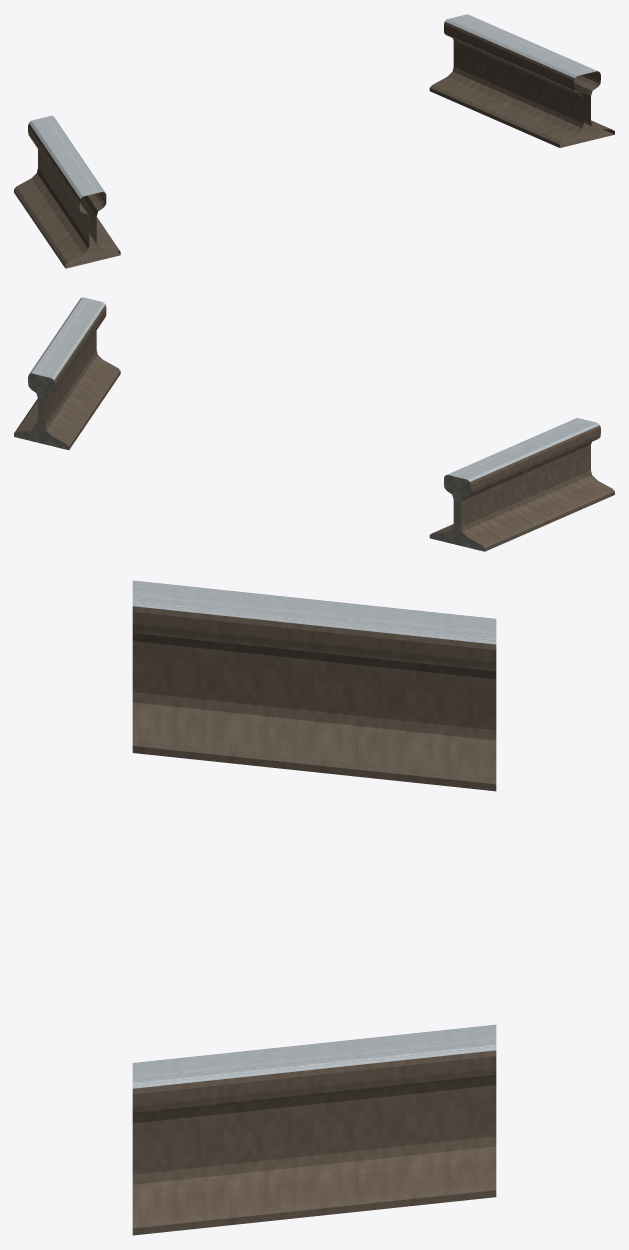
The model's file is outer_guard_endpoint_old.obj.
3 renders of one model, top to bottom at view 1: azimuth 30°, elevation 25°; view 2: azimuth 150°, elevation 25°; view 3: azimuth 270°, elevation 25°, orthographic. The views are drawn at different scales.
Visible parts, largest first — view 1: terminal_right, terminal_left; view 2: terminal_left, terminal_right; view 3: terminal_left, terminal_right.
Boxes of the visible parts, bbox=[...] form: terminal_right: bbox=[429, 14, 614, 147]; terminal_left: bbox=[14, 115, 120, 268]; terminal_left: bbox=[429, 418, 614, 551]; terminal_right: bbox=[14, 297, 120, 450]; terminal_left: bbox=[132, 580, 496, 791]; terminal_right: bbox=[132, 1024, 496, 1235].
Bounding box in the file's own units: 1.4 × 0.1649 × 0.4.
